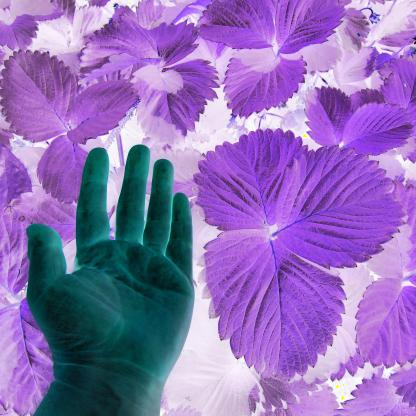Strawberry leaf: (194, 221, 351, 386), (275, 141, 407, 274), (191, 124, 320, 233), (0, 44, 81, 145), (131, 60, 228, 142), (220, 43, 310, 120), (81, 9, 203, 65), (66, 74, 138, 145), (38, 134, 101, 208)
